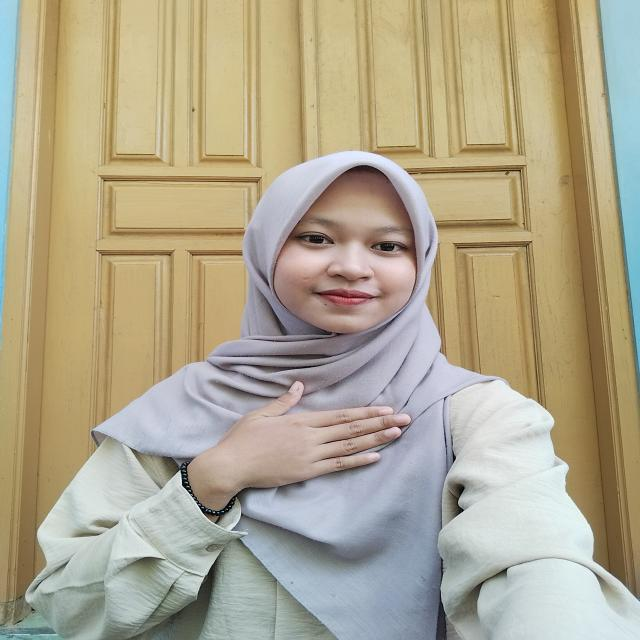tolong: (164, 377, 406, 523)
